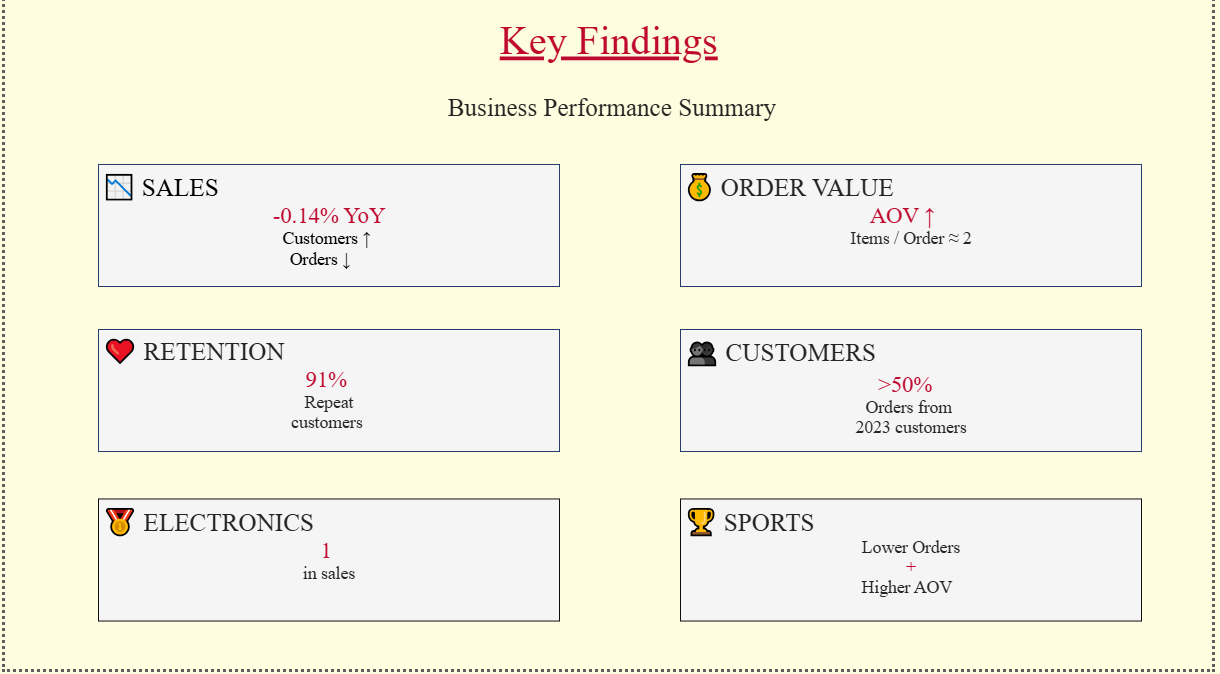

This screenshot's page, from the dashboard's own definition file:
{"tool":"powerbi","page":{"name":"Key Findings","canvas":[1280,720],"ordinal":4},"visuals":[{"type":"textbox","box":[486.7,23.9,307,79.5],"z":0},{"type":"textbox","box":[435.8,103.4,408.8,55.7],"z":1000},{"type":"shape","box":[98.6,184.5,489.9,130.4],"z":2000},{"type":"shape","box":[715.8,184.5,489.9,130.4],"z":3000},{"type":"shape","box":[98.6,539.2,489.9,130.4],"z":4000},{"type":"shape","box":[715.8,539.2,489.9,130.4],"z":5000},{"type":"shape","box":[98.6,359.5,489.9,130.4],"z":6000},{"type":"shape","box":[715.8,359.5,489.9,130.4],"z":7000},{"type":"textbox","box":[98.6,184.5,489.9,130.4],"z":8000},{"type":"textbox","box":[715.8,184.5,489.9,130.4],"z":9000},{"type":"textbox","box":[98.6,357.9,489.9,132],"z":10000},{"type":"textbox","box":[715.8,359.5,489.9,130.4],"z":10001},{"type":"textbox","box":[98.6,539.2,489.9,130.4],"z":10002},{"type":"textbox","box":[715.8,539.2,489.9,130.4],"z":10003}]}

Visuals, with their boxes in screenshot pixels (x1, y1, x2, y2), scaled from the page's 1280x720 canvas onto the 1220x674 screenshot:
textbox: [x1=464, y1=22, x2=756, y2=97]
textbox: [x1=415, y1=97, x2=805, y2=149]
shape: [x1=94, y1=173, x2=561, y2=295]
shape: [x1=682, y1=173, x2=1149, y2=295]
shape: [x1=94, y1=505, x2=561, y2=627]
shape: [x1=682, y1=505, x2=1149, y2=627]
shape: [x1=94, y1=337, x2=561, y2=459]
shape: [x1=682, y1=337, x2=1149, y2=459]
textbox: [x1=94, y1=173, x2=561, y2=295]
textbox: [x1=682, y1=173, x2=1149, y2=295]
textbox: [x1=94, y1=335, x2=561, y2=459]
textbox: [x1=682, y1=337, x2=1149, y2=459]
textbox: [x1=94, y1=505, x2=561, y2=627]
textbox: [x1=682, y1=505, x2=1149, y2=627]
